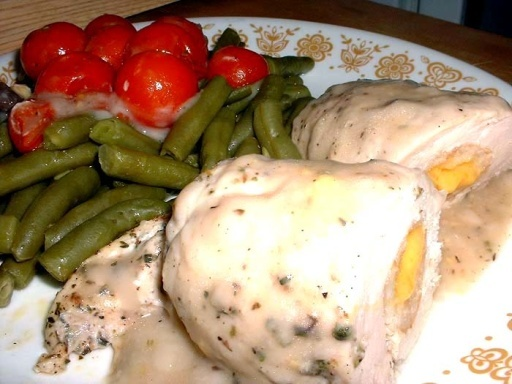background: (0, 8, 410, 230)
